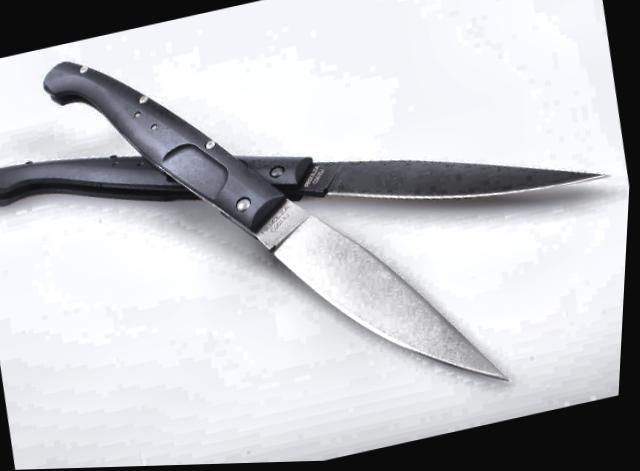knife: (237, 149, 533, 441), (282, 98, 612, 250)
